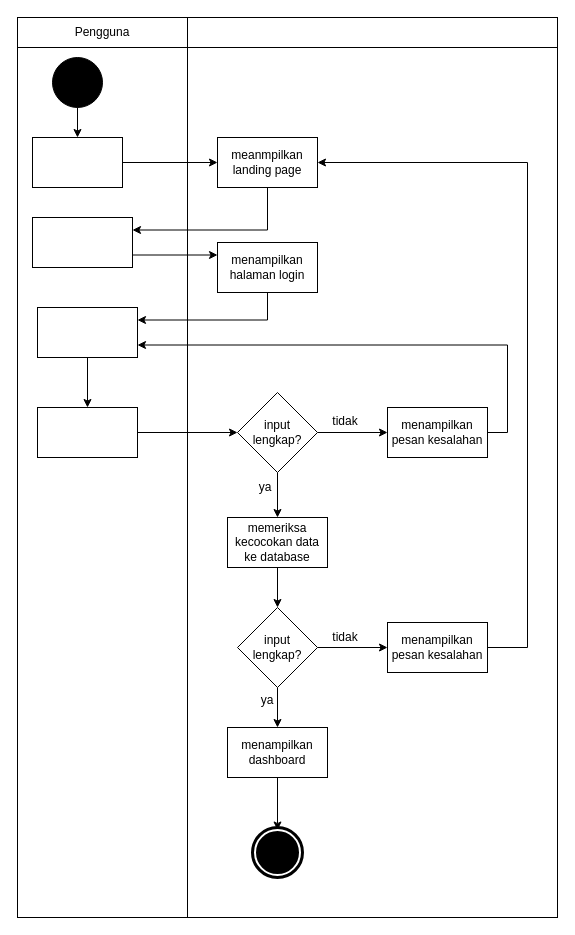
This 575x935 diagram has some shape labels left out. Each missing label, with the box of its shape:
membuka sistem: (32, 136, 122, 188)
memilih menu login: (32, 216, 132, 268)
menekan tombol login: (36, 406, 138, 458)
mengisi username dan password: (36, 306, 138, 358)
Sistem: (186, 16, 558, 48)
